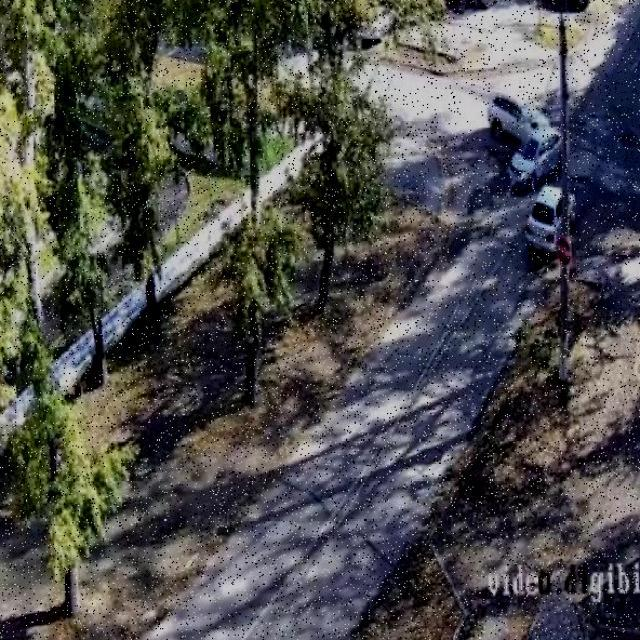accident: (501, 111, 567, 165)
